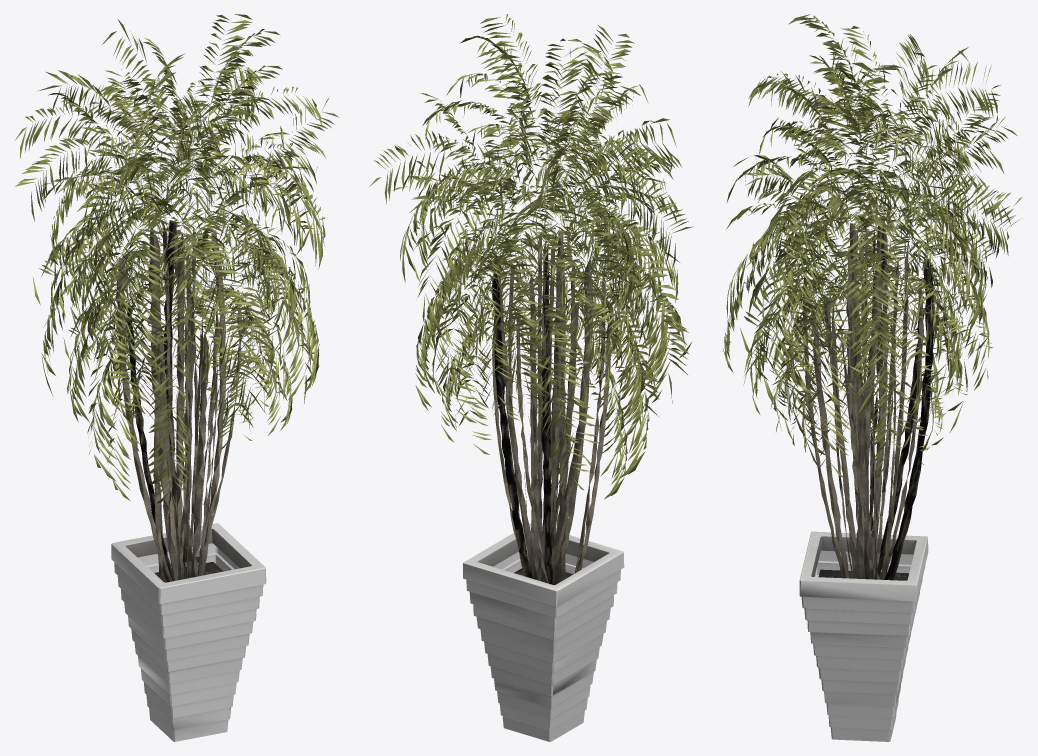
File: pot.glb
The picture shows the model from 3 angles, left to right: view 1: azimuth 30°, elevation 25°; view 2: azimuth 150°, elevation 25°; view 3: azimuth 270°, elevation 25°; orthographic projection.
Visible parts, largest first — view 1: normalized_model; view 2: normalized_model; view 3: normalized_model.
Part boxes in pixels (x1,y1,x2,y2): normalized_model: (15,14,338,741); normalized_model: (369,14,693,741); normalized_model: (723,14,1022,741).
Bounding box in the file's own units: 0.7077 × 1.62 × 0.6336.
1 material, 1 textured.
